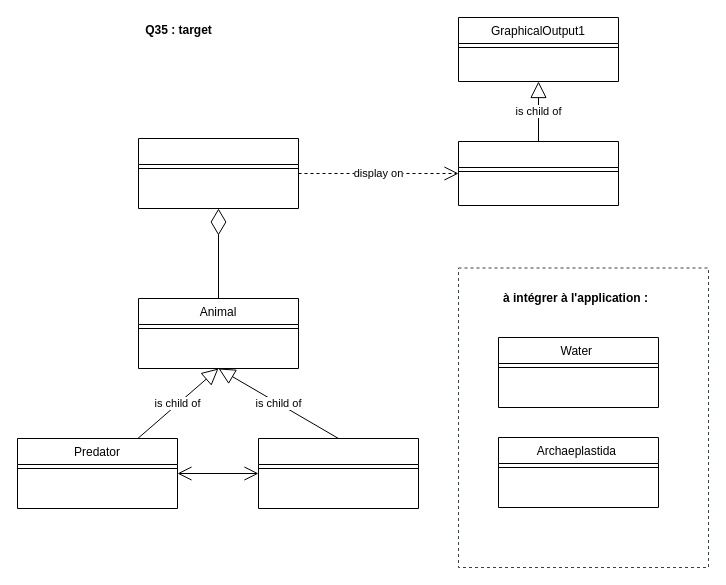
Some shapes in this 726 by 585 pixel diagram are drawn without their labels. Each missing label, with the centre of its shape:
GraphicalOutput2: the point at 538,173
Jungle: the point at 218,173
Prey: the point at 338,473
